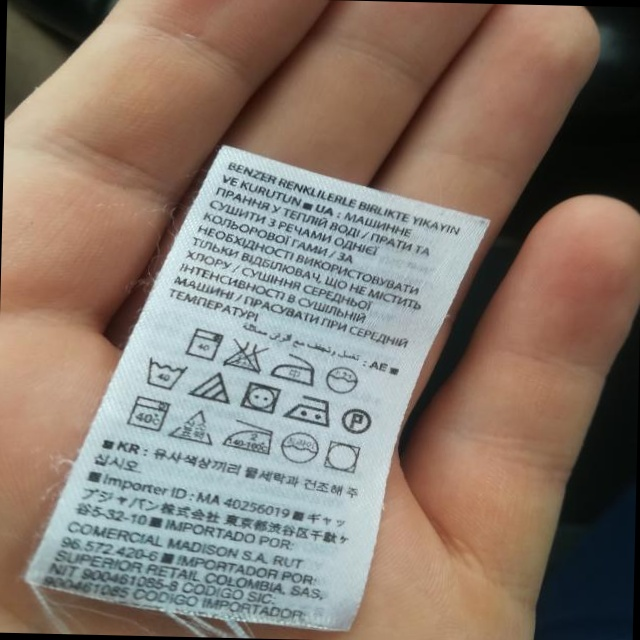40C: (145, 356, 190, 392), (130, 394, 170, 434), (188, 326, 224, 363)
dry_clean: (281, 430, 321, 464), (325, 363, 362, 397)
dry_clean_any_solvent_except_trichloroethylene: (341, 406, 374, 434)
iron: (272, 353, 318, 385)
iron_medium: (224, 421, 277, 455), (288, 394, 332, 426)
non_chlorine_bleach: (174, 410, 217, 448), (192, 371, 234, 405)
tumble_dry_medium: (240, 379, 285, 414)
tumble_dry_normal: (322, 440, 364, 477)
